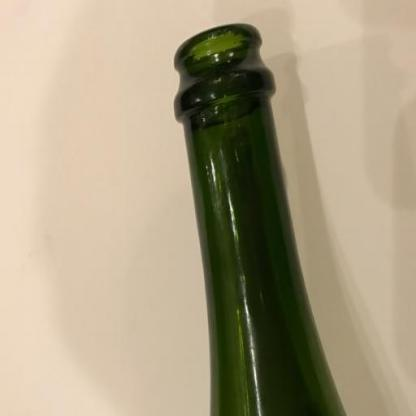trash: (170, 21, 352, 414)
